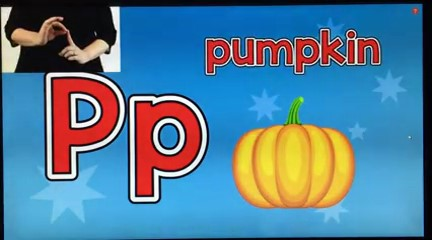P: (34, 10, 93, 66)
